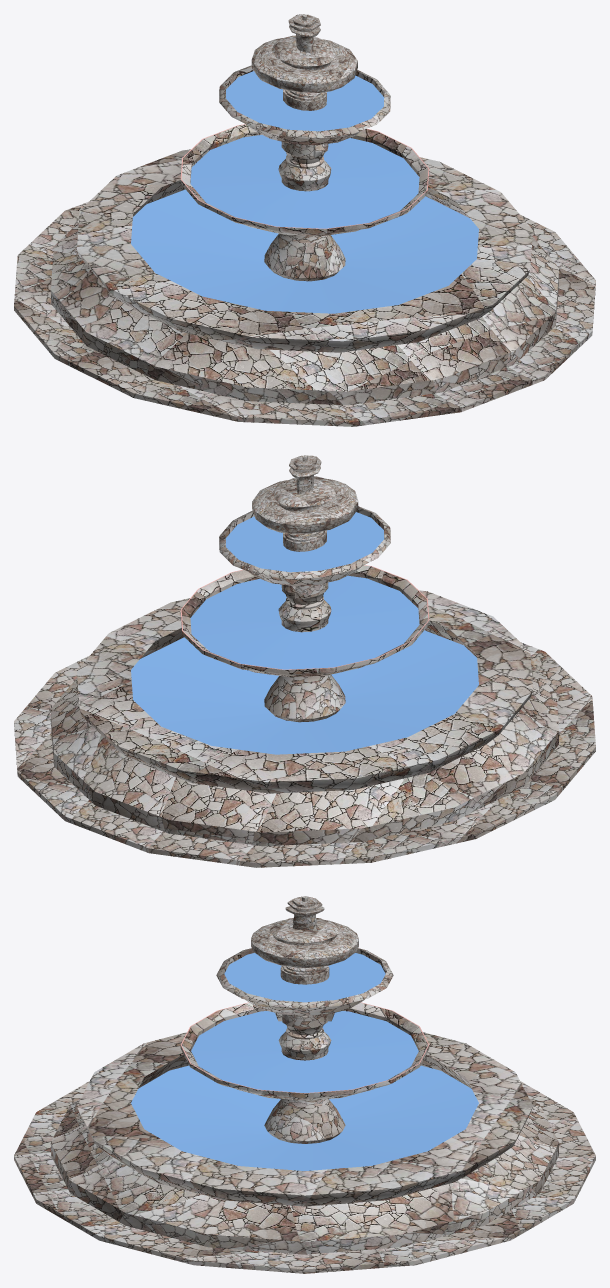
The model's file is FuenteDeAgua.fbx.
3 views of the same model, one above another, from view 1: azimuth 30°, elevation 25°; view 2: azimuth 150°, elevation 25°; view 3: azimuth 270°, elevation 25° (orthographic). The views are drawn at different scales.
Visible parts, largest first — view 1: Circle; view 2: Circle; view 3: Circle.
Boxes of the visible parts, bbox=[...] form: Circle: bbox=[14, 14, 595, 426]; Circle: bbox=[14, 455, 595, 867]; Circle: bbox=[14, 896, 595, 1273].
Bounding box in the file's own units: 520 × 281 × 562.
Materials: 2 (2 with a texture image).
